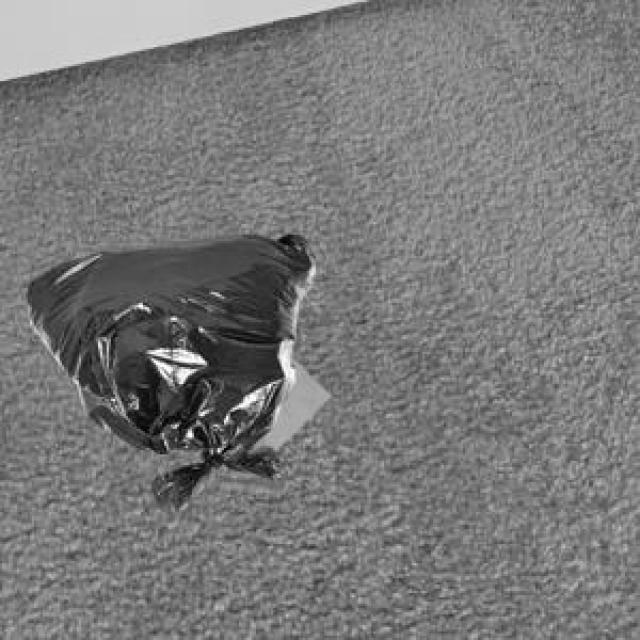miscellaneous trash: (24, 230, 312, 508)
paper: (152, 233, 326, 446)
